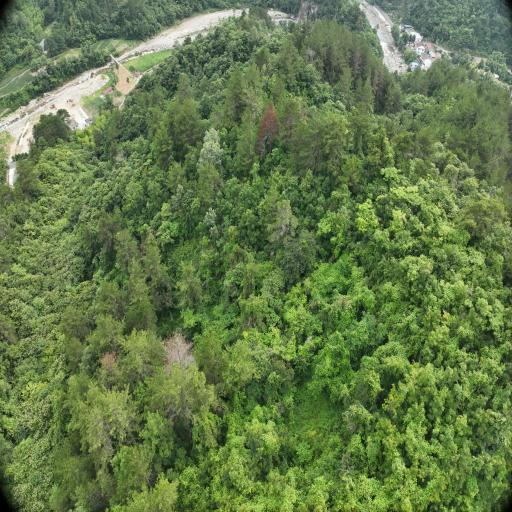dead-tree: (308, 49, 315, 61)
sick-tree: (165, 332, 193, 365), (262, 103, 280, 153), (257, 124, 268, 160), (287, 112, 297, 141), (99, 353, 119, 362), (298, 109, 307, 122)
